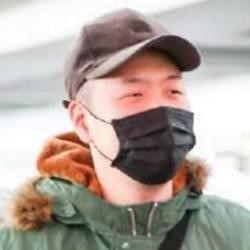mask: (84, 104, 201, 188)
